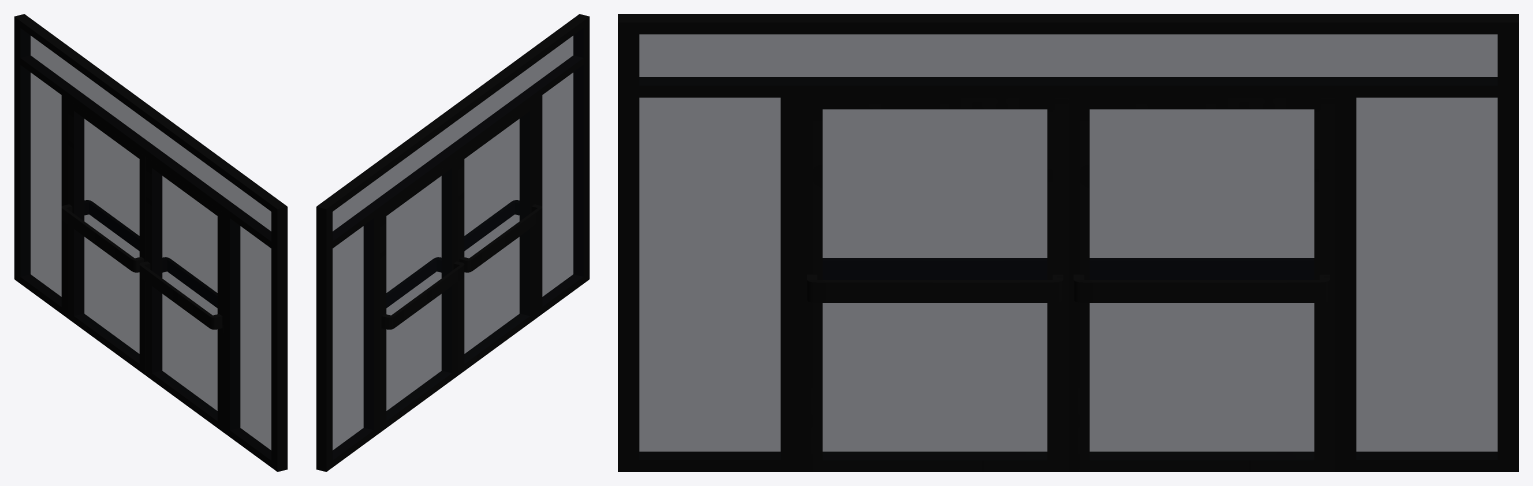
Rendered from MainDoor.fbx.
3 renders of one model, left to right at view 1: azimuth 30°, elevation 25°; view 2: azimuth 150°, elevation 25°; view 3: azimuth 270°, elevation 25°, orthographic. The views are drawn at different scales.
Visible parts, largest first — view 1: SM_EntranceDoorStand, SM_EntranceDoor, SM_EntranceDoor.001; view 2: SM_EntranceDoorStand, SM_EntranceDoor.001, SM_EntranceDoor; view 3: SM_EntranceDoorStand, SM_EntranceDoor.001, SM_EntranceDoor.
Part boxes in pixels (<box>): SM_EntranceDoorStand: <box>14,14,287,471</box>; SM_EntranceDoor: <box>61,100,145,375</box>; SM_EntranceDoor.001: <box>139,157,223,432</box>; SM_EntranceDoorStand: <box>316,14,589,471</box>; SM_EntranceDoor.001: <box>458,100,542,375</box>; SM_EntranceDoor: <box>380,157,464,432</box>; SM_EntranceDoorStand: <box>618,14,1518,471</box>; SM_EntranceDoor.001: <box>801,97,1068,471</box>; SM_EntranceDoor: <box>1068,97,1335,471</box>.
Size of the model in its own units: 36.33 by 308 by 559.
